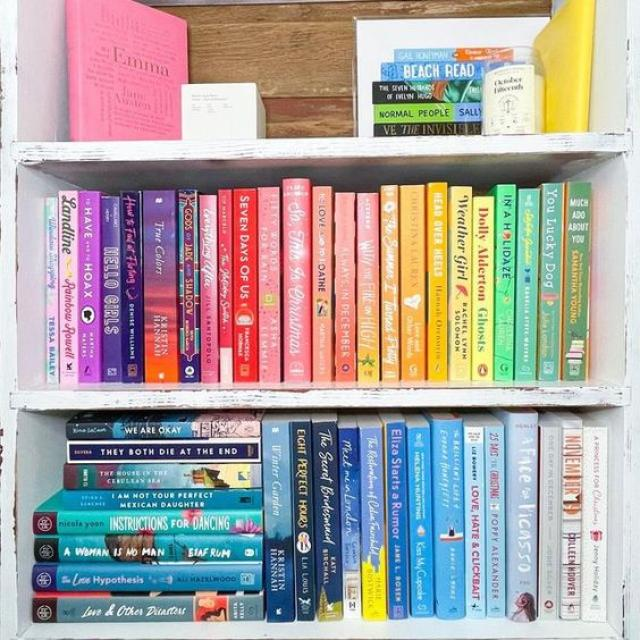book: (433, 419, 466, 619), (263, 421, 295, 622), (144, 189, 177, 382), (560, 182, 592, 381), (509, 413, 538, 621), (35, 536, 262, 562), (283, 179, 311, 382), (314, 421, 342, 621), (536, 182, 564, 381), (32, 565, 262, 589), (32, 598, 263, 621), (513, 188, 540, 379), (581, 427, 607, 622), (33, 512, 263, 534), (360, 427, 386, 621), (408, 427, 434, 617), (401, 186, 426, 380), (291, 421, 315, 620), (384, 422, 408, 620), (234, 189, 258, 382), (258, 188, 281, 382), (539, 427, 562, 619), (62, 465, 262, 487), (100, 196, 123, 382), (67, 440, 261, 462), (450, 187, 472, 380), (121, 190, 143, 383), (79, 190, 101, 382), (334, 192, 356, 382), (560, 420, 581, 619), (312, 187, 333, 381), (464, 426, 485, 619), (472, 197, 494, 380), (62, 490, 262, 510), (495, 185, 515, 380), (59, 191, 79, 382), (484, 426, 504, 617), (340, 427, 360, 618), (428, 184, 447, 380), (358, 194, 378, 380), (381, 186, 399, 381), (180, 189, 198, 383), (200, 195, 218, 382), (65, 423, 260, 438), (218, 190, 232, 382), (45, 198, 59, 383), (373, 82, 482, 103), (374, 104, 481, 122), (381, 63, 482, 79), (393, 49, 514, 62), (374, 124, 481, 135)
